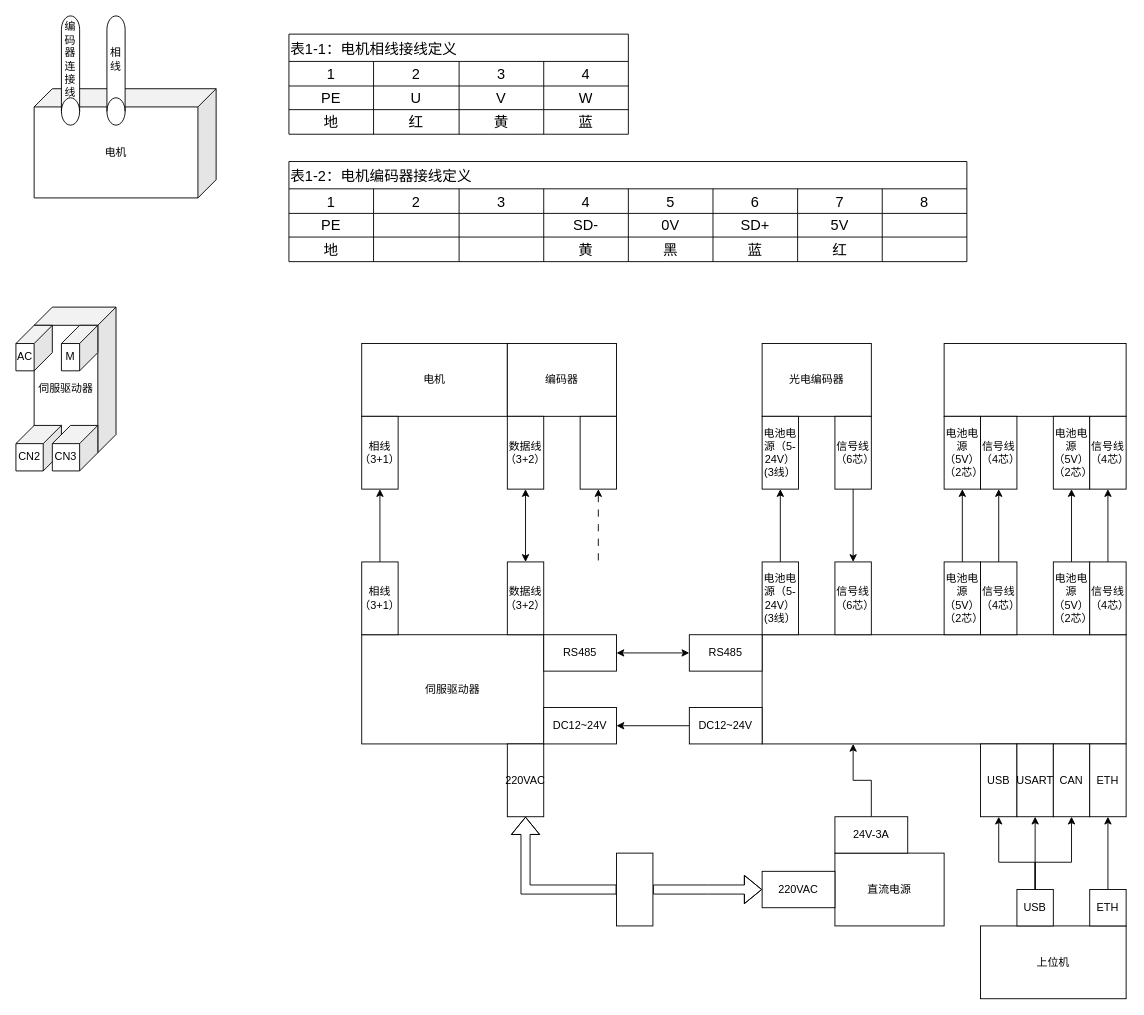
The diagram is 1144 pixels wide and 1015 high, and some of its shapes have lost their labels. Here are the shapes that lost their labels. From the top down, the centre of each, then its label:
At (x=1034, y=379): "电涡流传感器".
At (x=598, y=452): "电池电源".
At (x=943, y=689): "测试平台控制板".
At (x=634, y=889): "插板".
